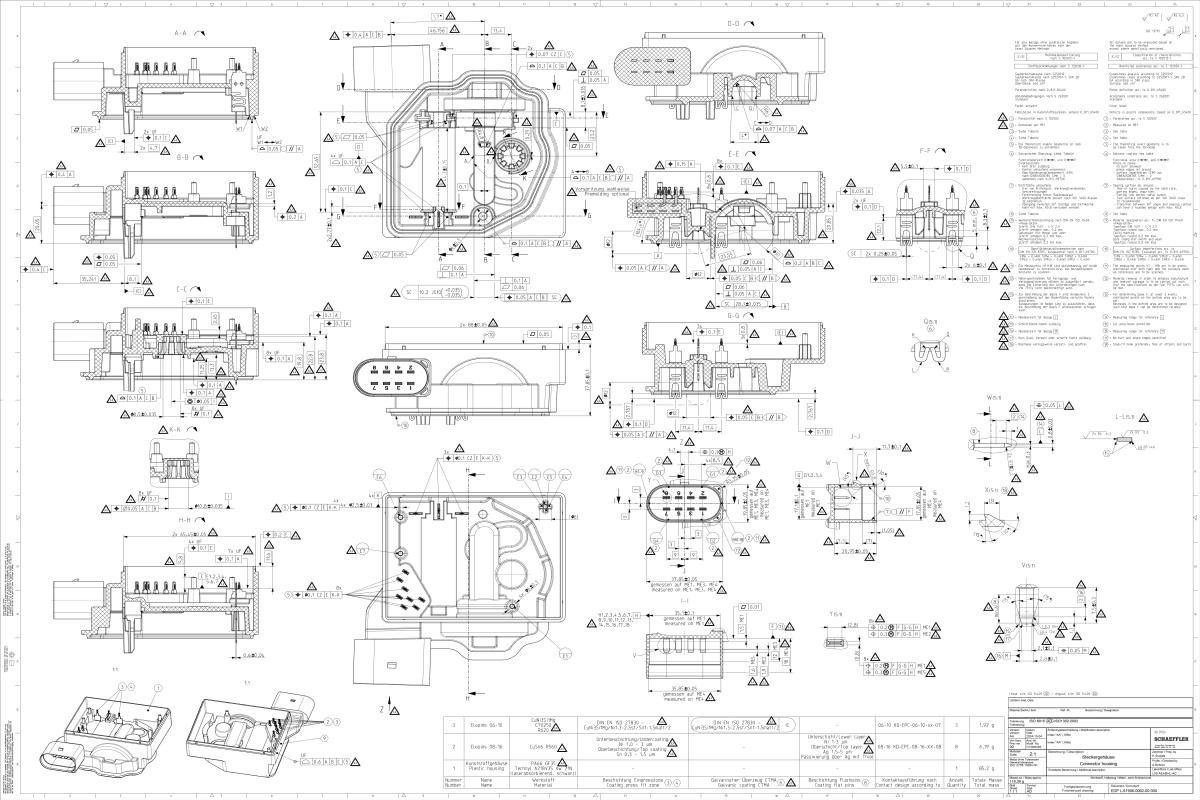falcon_r1: (296, 10, 637, 307), (263, 439, 587, 706), (602, 151, 888, 320), (9, 141, 309, 301), (42, 281, 359, 430), (42, 526, 313, 670), (44, 19, 311, 164), (592, 310, 840, 453), (343, 307, 602, 437), (612, 14, 845, 149), (603, 436, 781, 600), (585, 591, 807, 712), (784, 423, 954, 577), (848, 135, 1001, 302), (178, 676, 368, 786), (971, 555, 1136, 679), (60, 425, 257, 528), (29, 674, 177, 784), (811, 597, 956, 693), (958, 382, 1080, 490), (960, 477, 1052, 552)
